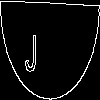J: (25, 24, 38, 73)
